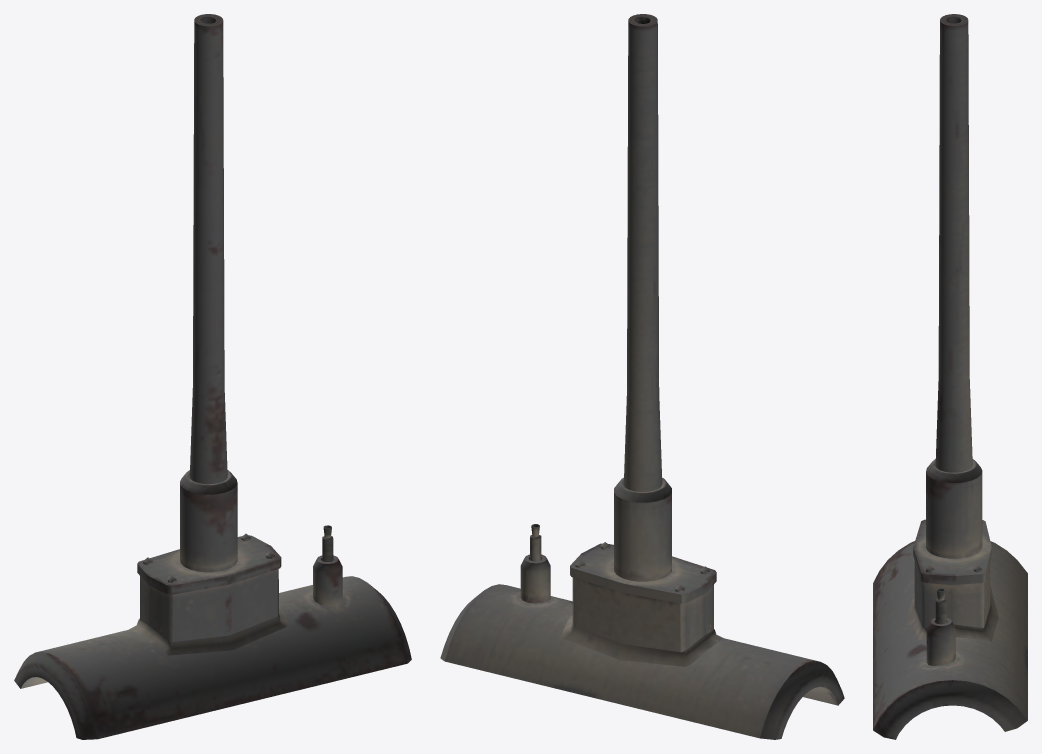
File: Gun_05.glb
The picture shows the model from 3 angles, left to right: view 1: azimuth 30°, elevation 25°; view 2: azimuth 150°, elevation 25°; view 3: azimuth 270°, elevation 25°; orthographic projection. The views are drawn at different scales.
Parts seen in each view (by area): view 1: set_0_group_0; view 2: set_0_group_0; view 3: set_0_group_0.
Boxes of the visible parts, x1,y1,x2,y2 form: set_0_group_0: (14, 14, 411, 739); set_0_group_0: (440, 14, 844, 739); set_0_group_0: (873, 14, 1027, 739).
Size of the model in its own units: 1.26 by 2.39 by 0.5237.
Materials: 1 (1 with a texture image).
